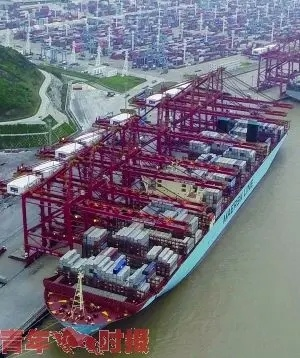Cargoship: (40, 109, 292, 340)
